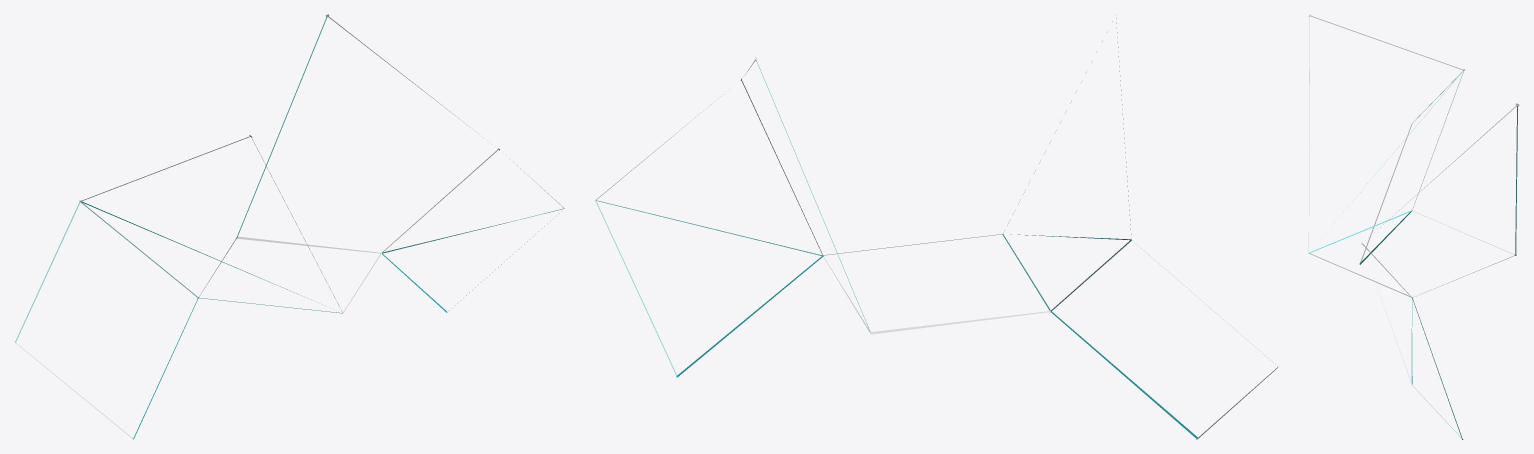
File: SM_HoloSpline_Connector.fbx
3 views of the same model, side by side, from view 1: azimuth 30°, elevation 25°; view 2: azimuth 150°, elevation 25°; view 3: azimuth 270°, elevation 25° (orthographic). The views are drawn at different scales.
Visible parts, largest first — view 1: SM_HoloSpline_Connector; view 2: SM_HoloSpline_Connector; view 3: SM_HoloSpline_Connector.
Part boxes in pixels (<box>): SM_HoloSpline_Connector: <box>14,14,565,439</box>; SM_HoloSpline_Connector: <box>594,15,1279,439</box>; SM_HoloSpline_Connector: <box>1308,14,1519,439</box>.
Bounding box in the file's own units: 100 × 34.17 × 52.65.
